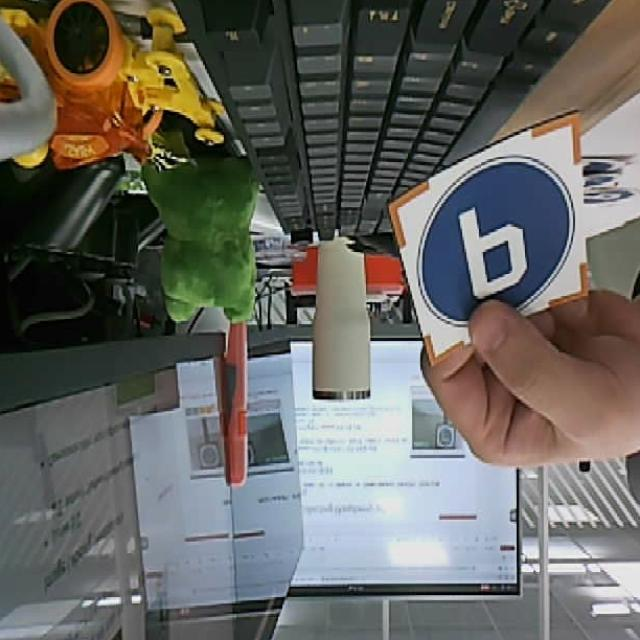parking: (386, 108, 590, 367)
